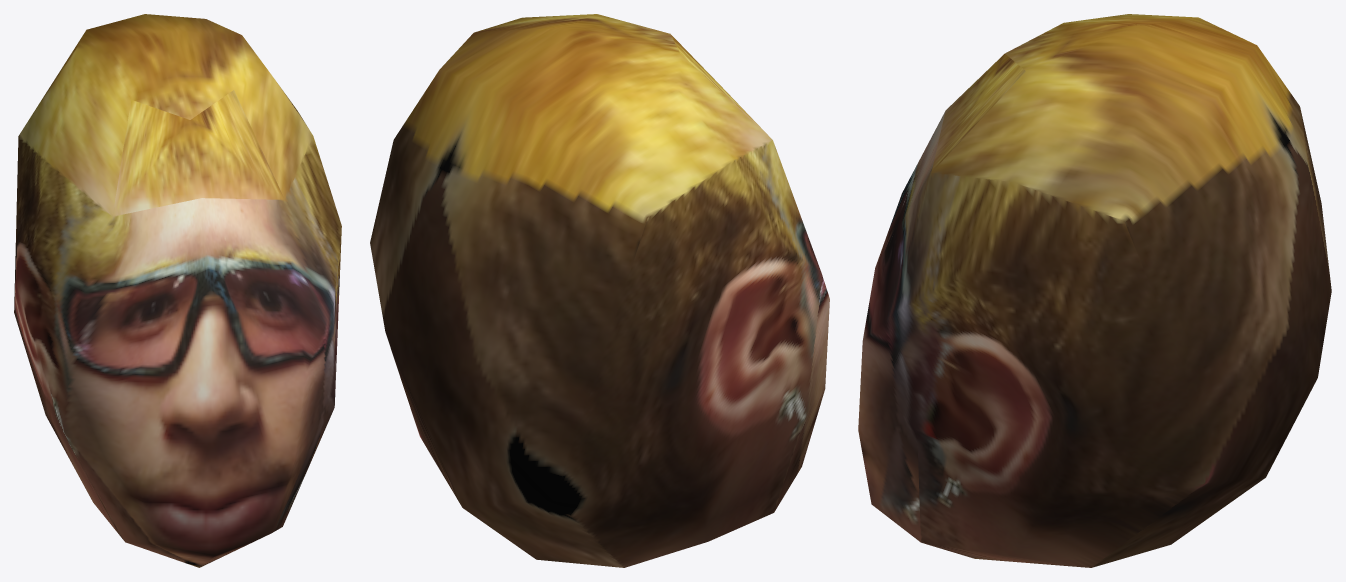
The model's file is stinkhead1.gltf.
3 renders of one model, left to right at view 1: azimuth 30°, elevation 25°; view 2: azimuth 150°, elevation 25°; view 3: azimuth 270°, elevation 25°, orthographic. The views are drawn at different scales.
Parts seen in each view (by area): view 1: Icosphere.001; view 2: Icosphere.001; view 3: Icosphere.001.
Boxes of the visible parts, bbox=[...] form: Icosphere.001: bbox=[14, 14, 341, 567]; Icosphere.001: bbox=[370, 14, 829, 567]; Icosphere.001: bbox=[858, 14, 1331, 567].
Bounding box in the file's own units: 1.63 × 2.56 × 1.99.
1 material, 1 textured.
